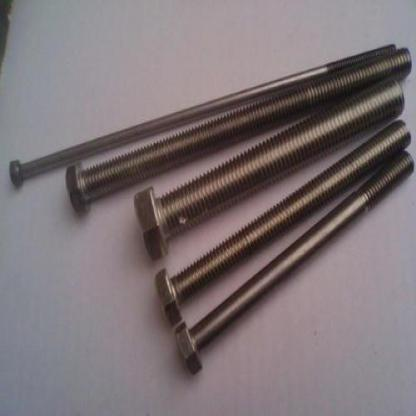FOD: (64, 43, 413, 216), (8, 38, 398, 188), (172, 146, 416, 378), (153, 116, 412, 329), (131, 76, 406, 263)
